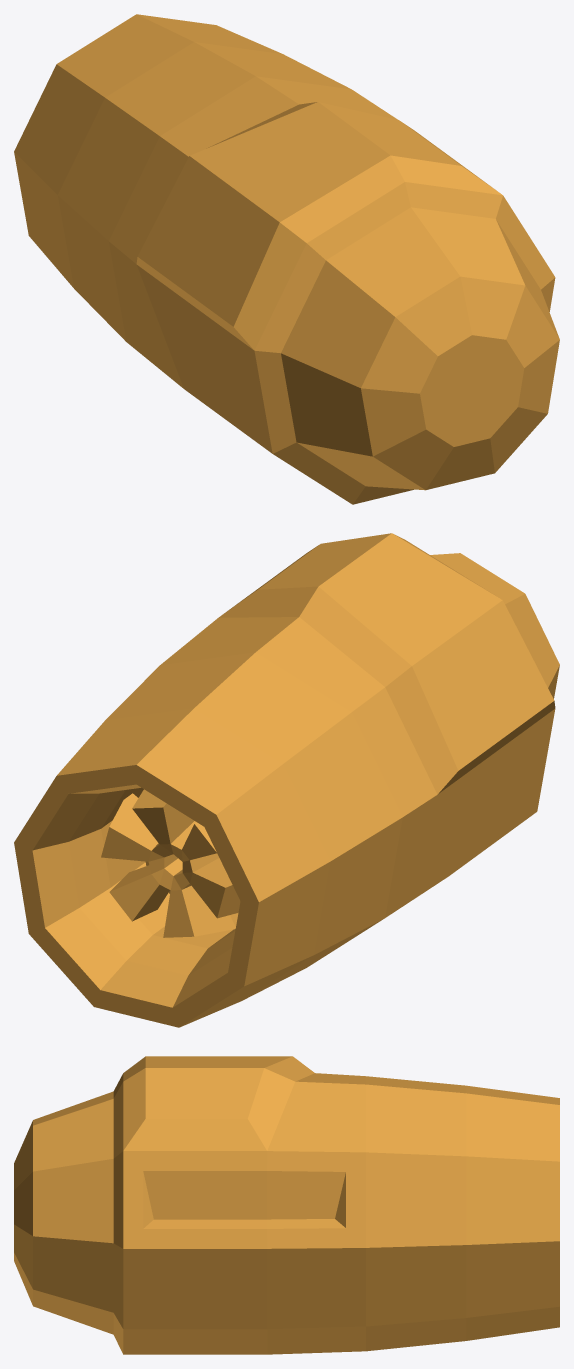
Rendered from scifi-ship-motor.fbx.
3 renders of one model, top to bottom at view 1: azimuth 30°, elevation 25°; view 2: azimuth 150°, elevation 25°; view 3: azimuth 270°, elevation 25°, orthographic. The views are drawn at different scales.
Visible parts, largest first — view 1: scifi-ship-motor; view 2: scifi-ship-motor; view 3: scifi-ship-motor.
Part boxes in pixels (left/top/right/bottom): scifi-ship-motor: left=14, top=14, right=559, bottom=504; scifi-ship-motor: left=14, top=533, right=559, bottom=1027; scifi-ship-motor: left=14, top=1056, right=559, bottom=1354.
Size of the model in its own units: 4.07 by 4.09 by 7.61.
